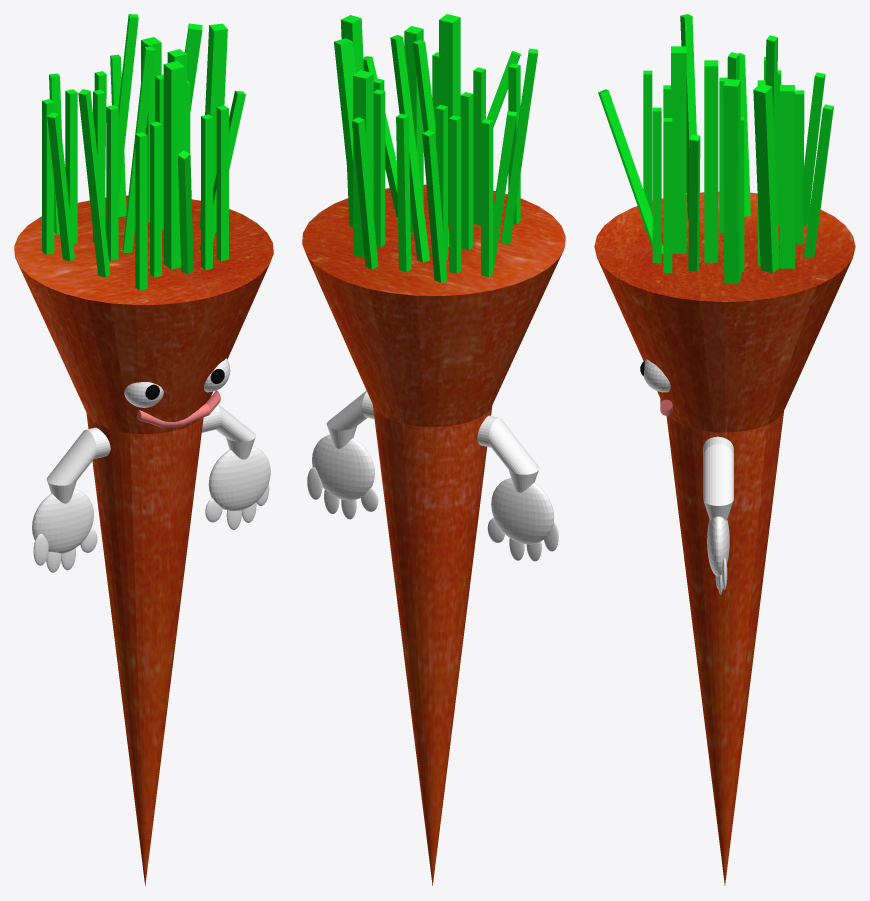
The model's file is marchewLV2.obj.
3 renders of one model, left to right at view 1: azimuth 30°, elevation 25°; view 2: azimuth 150°, elevation 25°; view 3: azimuth 270°, elevation 25°, orthographic.
Parts seen in each view (by area): view 1: Cone, Cylinder.002, Cylinder.001, Cube.011_Cube.012, Cube.009_Cube.010, Cube.017_Cube.018, Cube.005_Cube.006, Cube.019_Cube.020, Cube.010_Cube.011, Cube_Cube.001, Cube.008_Cube.009, Cube.007_Cube.008 (+14 smaller); view 2: Cone, Cylinder.002, Cylinder.001, Cube.014_Cube.015, Cube.003_Cube.004, Cube.011_Cube.012, Cube.002_Cube.003, Cube.010_Cube.011, Cube.022_Cube.023, Cube.001_Cube.002, Cube.009_Cube.010, Cube.016_Cube.017 (+12 smaller); view 3: Cone, Cylinder.001, Cube.004_Cube.005, Cube.005_Cube.006, Cube.011_Cube.012, Cube.012_Cube.013, Cube.003_Cube.004, Cube.018_Cube.019, Cube.021_Cube.022, Cube.006_Cube.007, Cube.019_Cube.020, Cube.007_Cube.008 (+10 smaller).
Part boxes in pixels (bbox=[...]): Cone: bbox=[14, 195, 273, 885]; Cylinder.002: bbox=[32, 427, 110, 572]; Cylinder.001: bbox=[201, 404, 270, 529]; Cube.011_Cube.012: bbox=[163, 61, 184, 269]; Cube.009_Cube.010: bbox=[78, 89, 110, 277]; Cube.017_Cube.018: bbox=[135, 132, 147, 290]; Cube.005_Cube.006: bbox=[200, 23, 227, 232]; Cube.019_Cube.020: bbox=[216, 105, 228, 261]; Cube.010_Cube.011: bbox=[106, 105, 118, 260]; Cube_Cube.001: bbox=[47, 112, 74, 261]; Cube.008_Cube.009: bbox=[150, 121, 161, 277]; Cube.007_Cube.008: bbox=[201, 114, 212, 270]; Cone: bbox=[302, 184, 565, 885]; Cylinder.002: bbox=[477, 415, 558, 561]; Cylinder.001: bbox=[307, 391, 378, 519]; Cube.014_Cube.015: bbox=[390, 35, 429, 262]; Cube.003_Cube.004: bbox=[353, 70, 373, 257]; Cube.011_Cube.012: bbox=[439, 14, 460, 224]; Cube.002_Cube.003: bbox=[396, 113, 411, 272]; Cube.010_Cube.011: bbox=[460, 92, 473, 250]; Cube.022_Cube.023: bbox=[422, 130, 447, 282]; Cube.001_Cube.002: bbox=[449, 115, 461, 273]; Cube.009_Cube.010: bbox=[501, 48, 538, 244]; Cube.016_Cube.017: bbox=[481, 119, 493, 277]; Cone: bbox=[594, 191, 855, 885]; Cylinder.001: bbox=[703, 436, 733, 594]; Cube.004_Cube.005: bbox=[753, 83, 779, 272]; Cube.005_Cube.006: bbox=[723, 79, 741, 283]; Cube.011_Cube.012: bbox=[671, 46, 686, 253]; Cube.012_Cube.013: bbox=[704, 60, 718, 262]; Cube.003_Cube.004: bbox=[780, 85, 794, 268]; Cube.018_Cube.019: bbox=[598, 89, 663, 253]; Cube.021_Cube.022: bbox=[803, 104, 833, 258]; Cube.006_Cube.007: bbox=[688, 134, 700, 271]; Cube.019_Cube.020: bbox=[663, 118, 672, 273]; Cube.007_Cube.008: bbox=[652, 107, 661, 262].
Size of the model in its own units: 3.53 by 11.88 by 3.29.
Materials: 7 (7 with a texture image).
